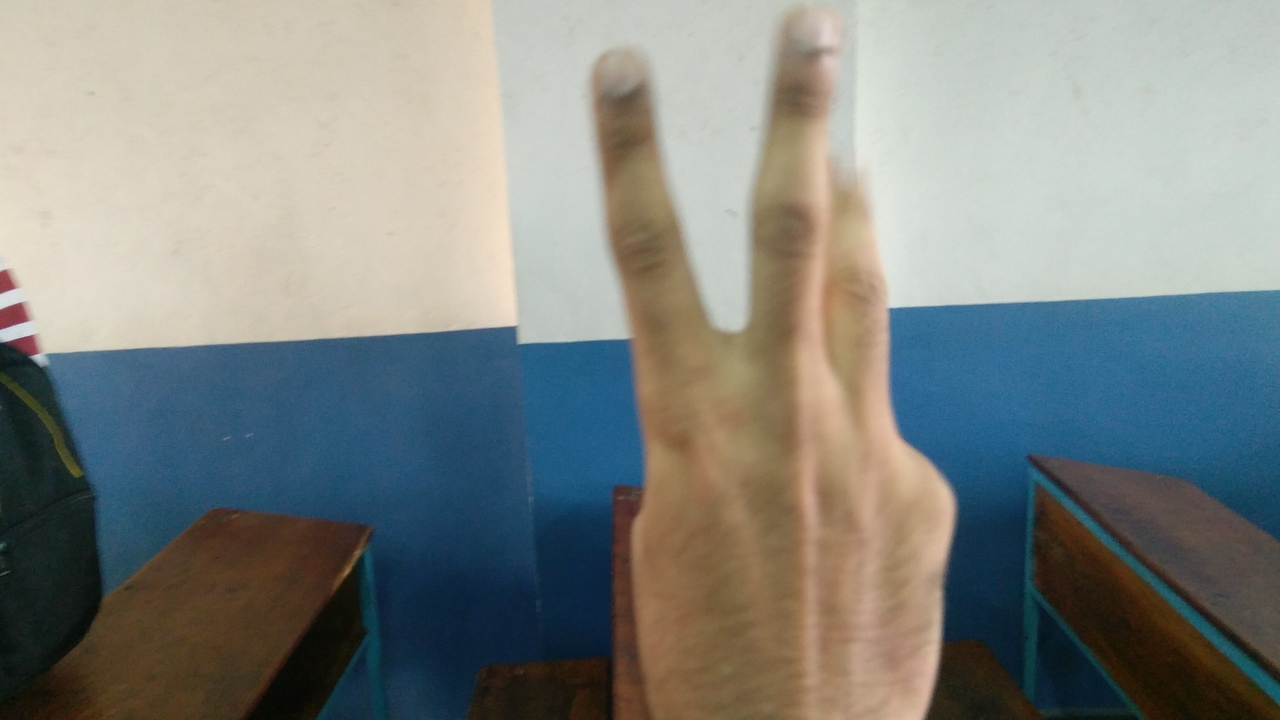fingertip: (778, 4, 852, 62), (588, 46, 654, 106)
